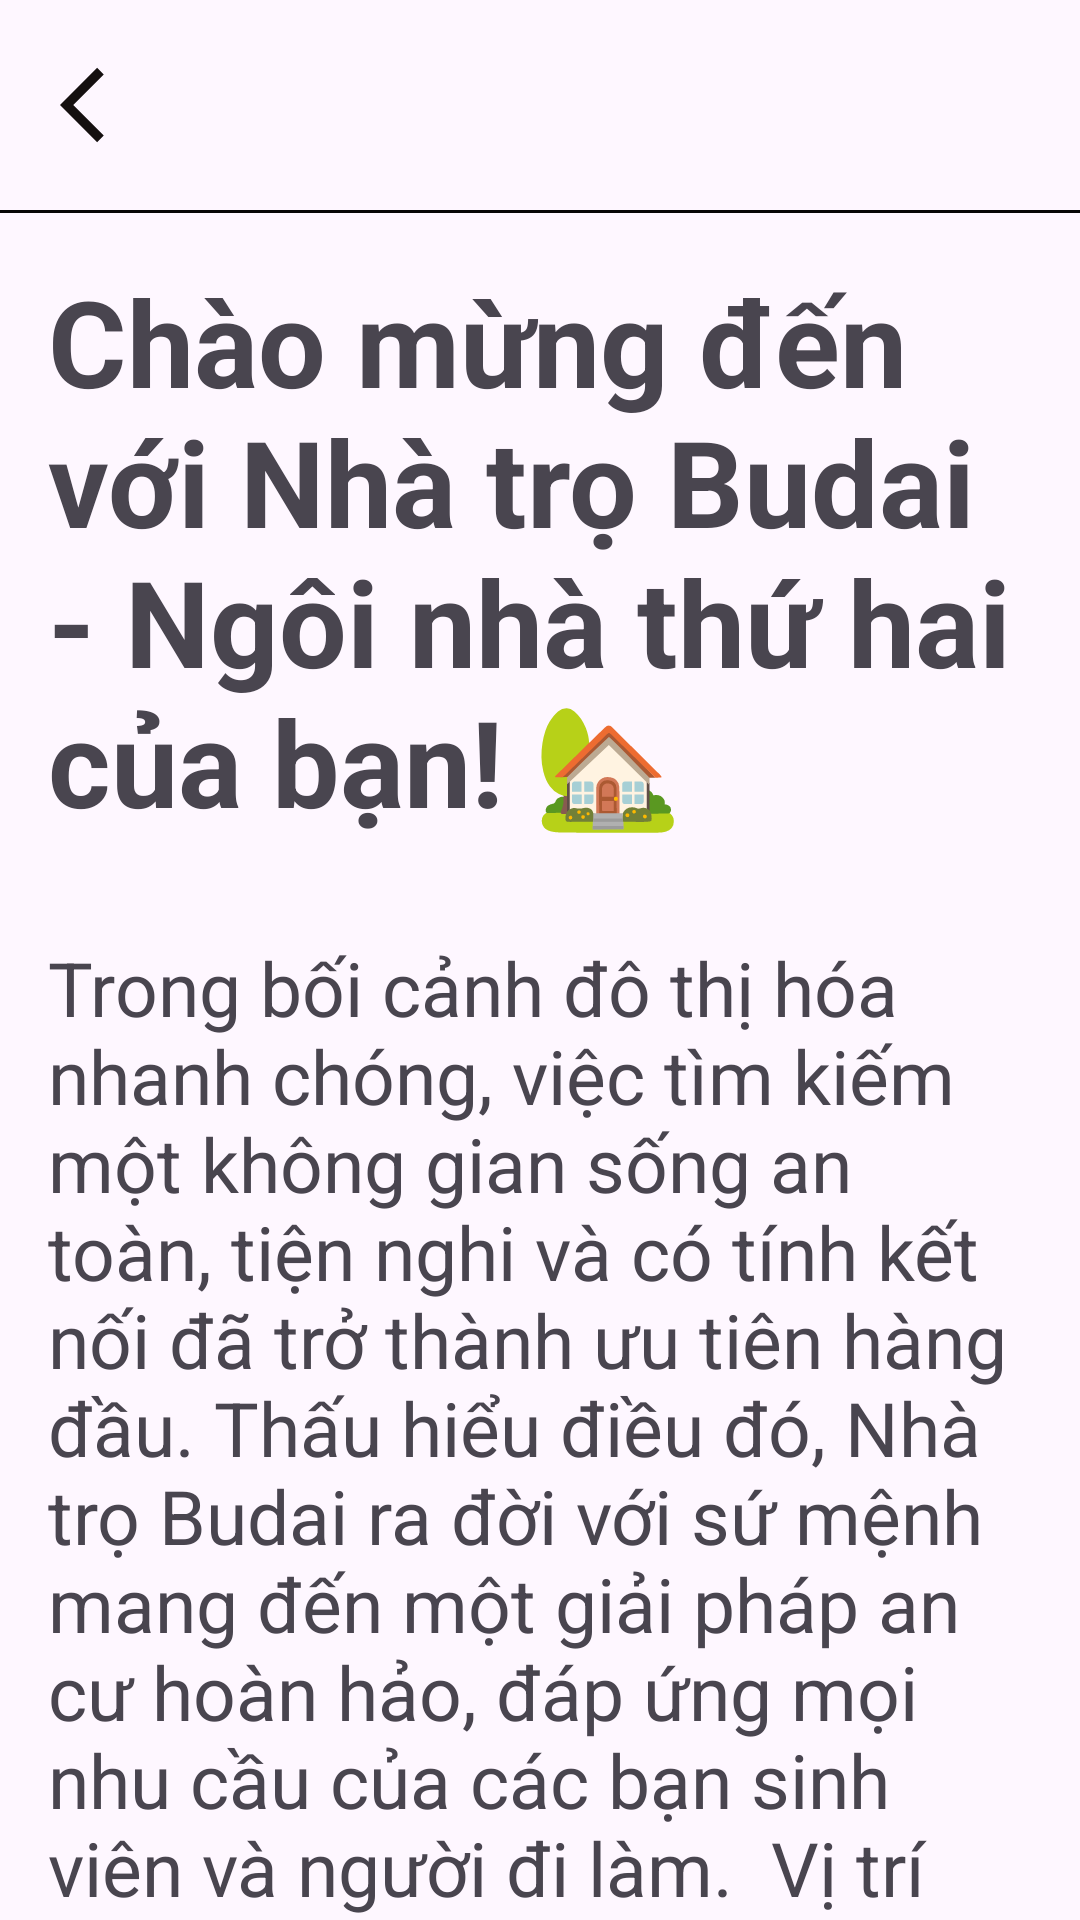

Where to tap for icons on this 1080 x 1920 app screen, as (x=x, y=y):
back: (x=82, y=105)
